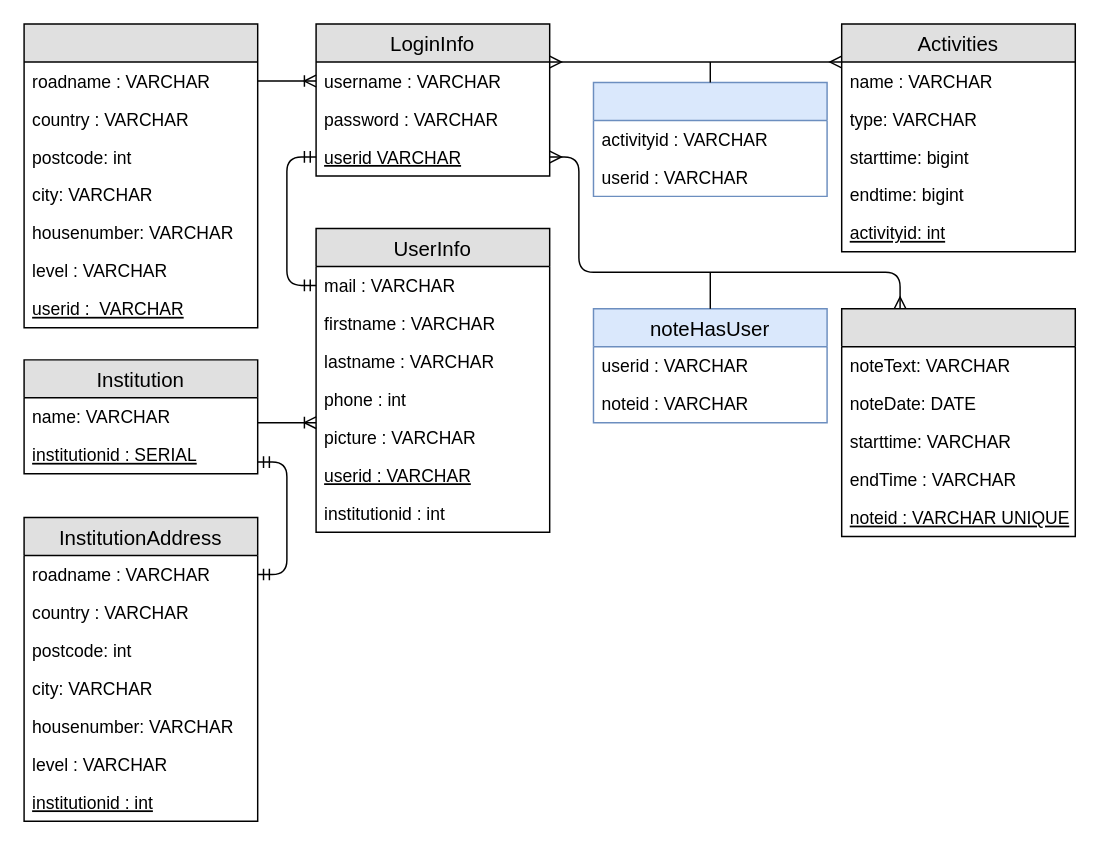
Some shapes in this 1099 by 845 pixel diagram are drawn without their labels. The shapes that lost their labels are listed below. From the top down, each one's box as (x1, y1, x2, y2) in pixels, then its label:
(592, 81, 827, 196): ActivityHasUser
(23, 23, 258, 328): UserAddress
(840, 307, 1075, 537): notes
